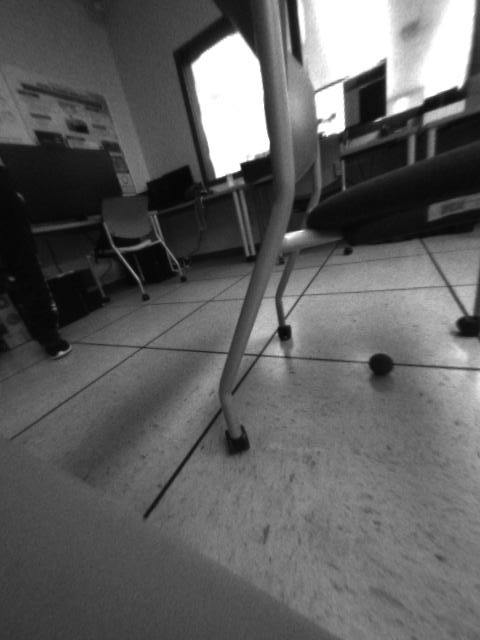dogtoy: (361, 346, 406, 387)
